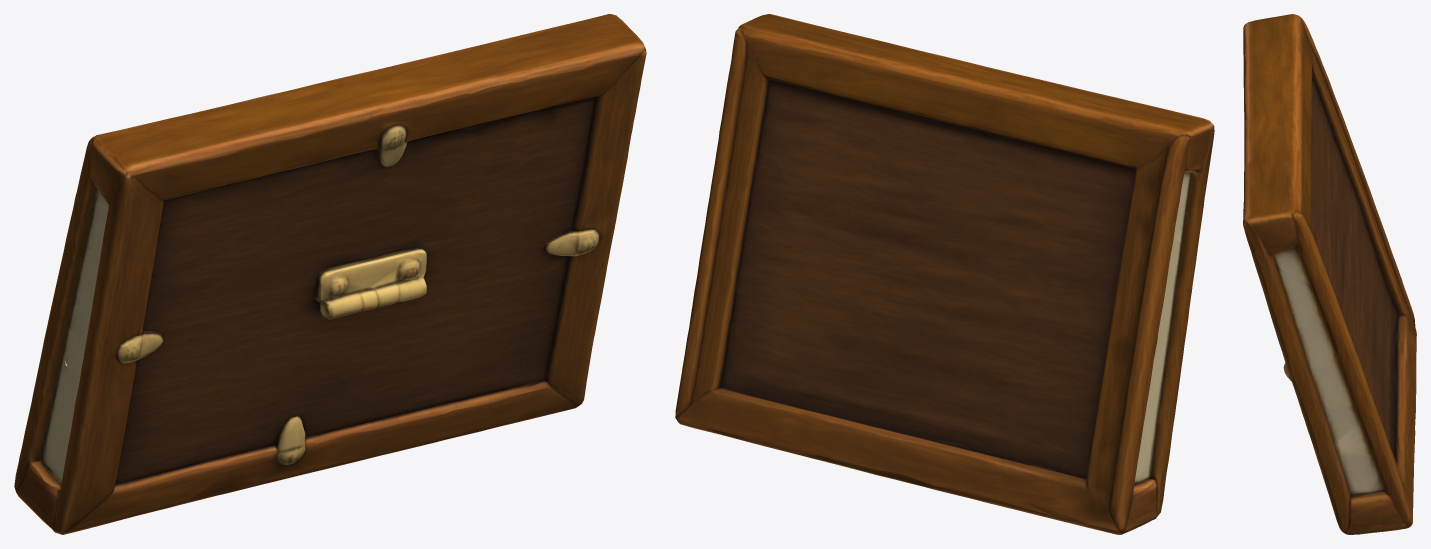
File: frame-body.glb
3 views of the same model, side by side, from view 1: azimuth 30°, elevation 25°; view 2: azimuth 150°, elevation 25°; view 3: azimuth 270°, elevation 25° (orthographic). The views are drawn at different scales.
Visible parts, largest first — view 1: world; view 2: world; view 3: world.
Boxes of the visible parts, box(x1,y1,x2,y2) form: world: box(14, 14, 646, 534); world: box(675, 14, 1214, 534); world: box(1243, 14, 1416, 534).
Size of the model in its own units: 0.3 by 0.2312 by 0.1104.
Materials: 1 (1 with a texture image).
